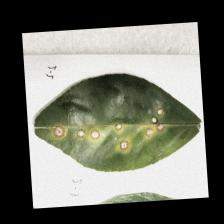canker: (45, 108, 173, 160)
